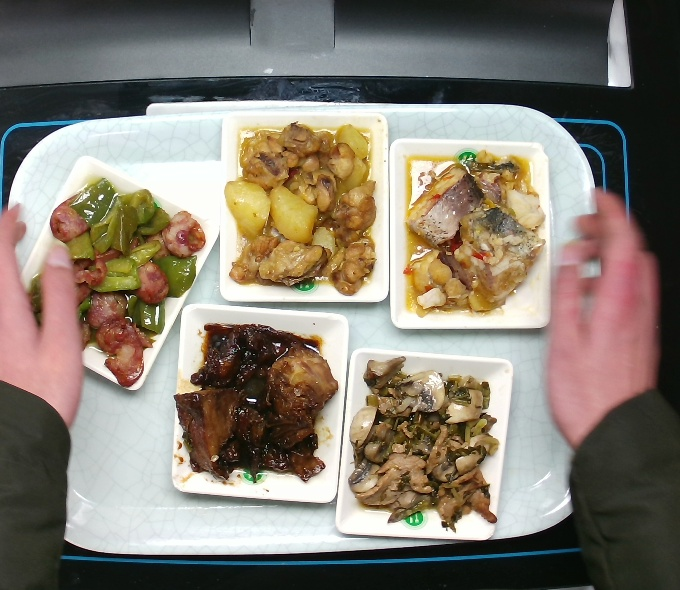wcq-JiangZhiYa: (172, 322, 341, 486)
wcq-MoGuRouPian: (346, 354, 500, 532)
wcq-SuanCaiYu: (404, 149, 544, 321)
wcq-TuDouJiKuai: (224, 122, 381, 297)
